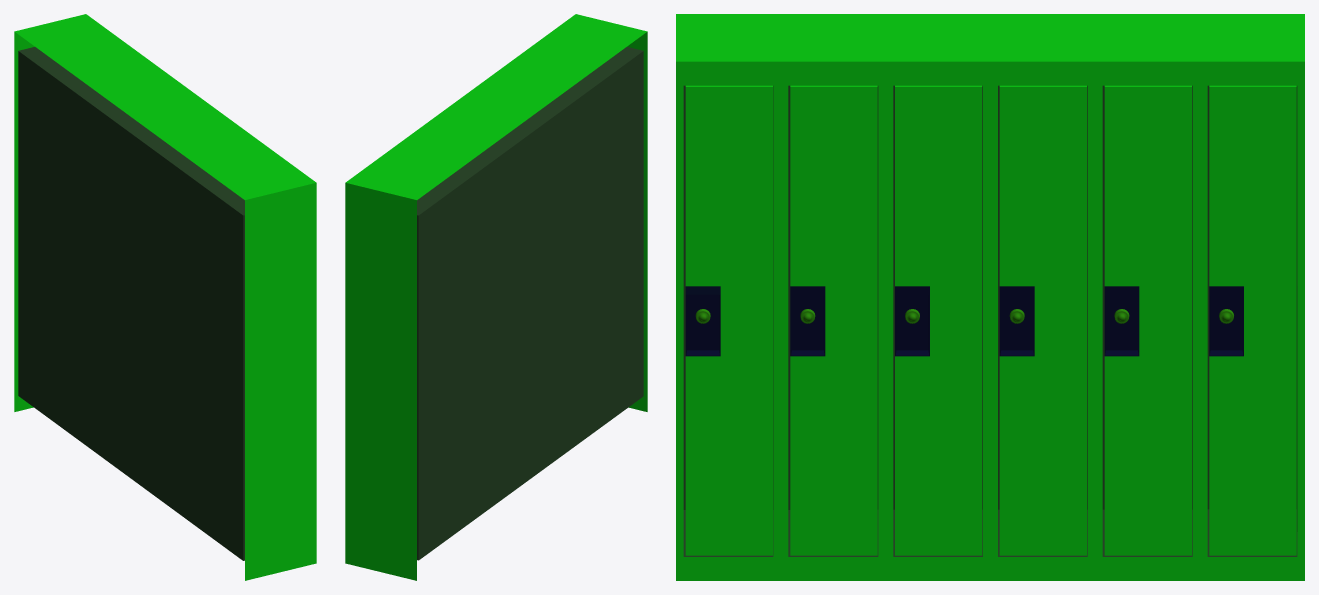
The model's file is lockers.fbx.
The picture shows the model from 3 angles, left to right: view 1: azimuth 30°, elevation 25°; view 2: azimuth 150°, elevation 25°; view 3: azimuth 270°, elevation 25°; orthographic projection. The views are drawn at different scales.
Parts seen in each view (by area): view 1: lockers; view 2: lockers; view 3: lockers.
Boxes of the visible parts, left/top/right/bottom form: lockers: left=14, top=14, right=316, bottom=580; lockers: left=345, top=14, right=647, bottom=580; lockers: left=676, top=14, right=1304, bottom=580.
Bounding box in the file's own units: 73.88 × 374 × 411.
